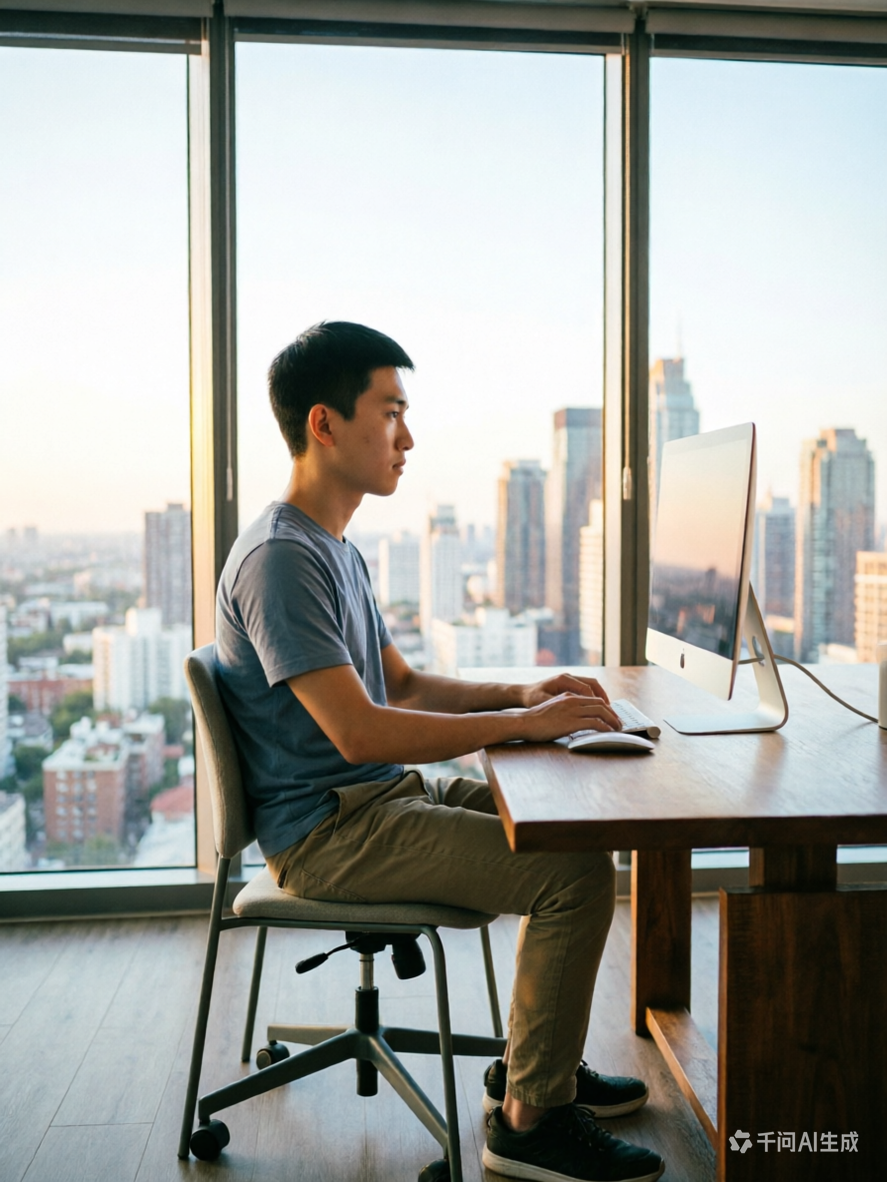sitting_good: (208, 321, 655, 1182)
